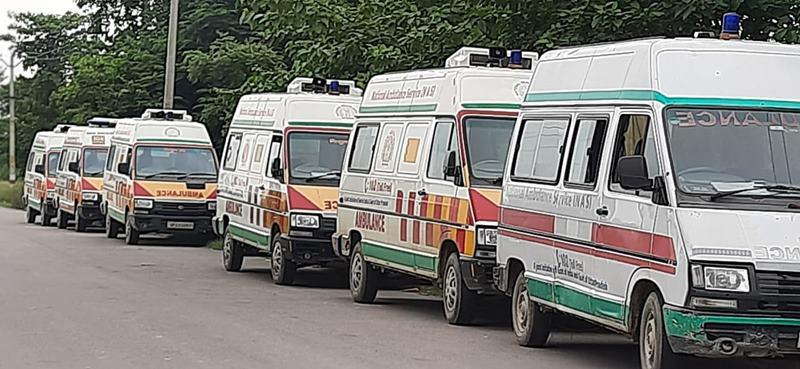ER: (495, 12, 800, 369), (331, 46, 534, 328), (214, 78, 363, 284), (100, 109, 218, 245), (56, 117, 121, 232), (21, 131, 60, 228)
